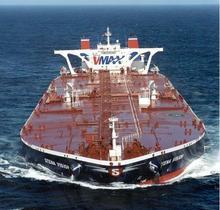Cargoship: (16, 28, 209, 185)
